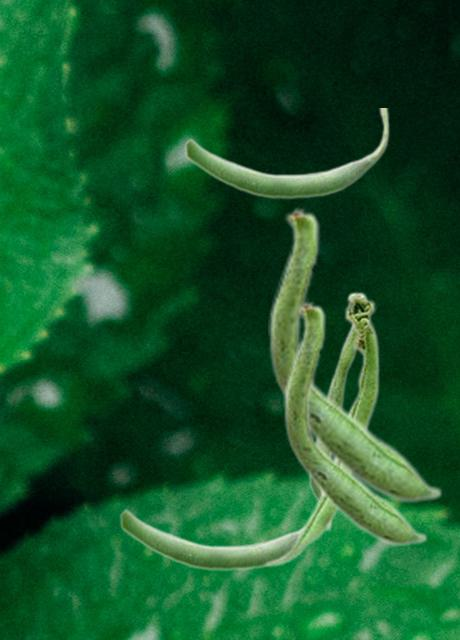french_bean: (268, 205, 442, 503), (283, 299, 427, 546), (263, 294, 379, 567), (184, 108, 389, 199), (308, 291, 368, 532), (119, 508, 301, 571)
